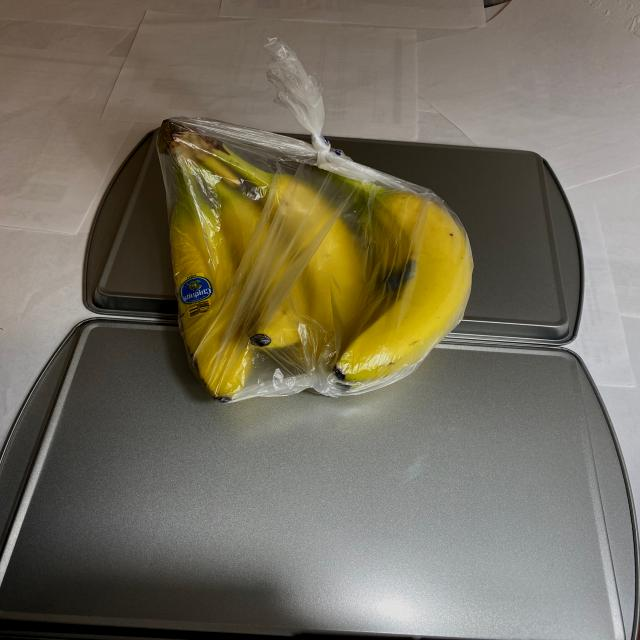banana: (148, 114, 472, 406)
